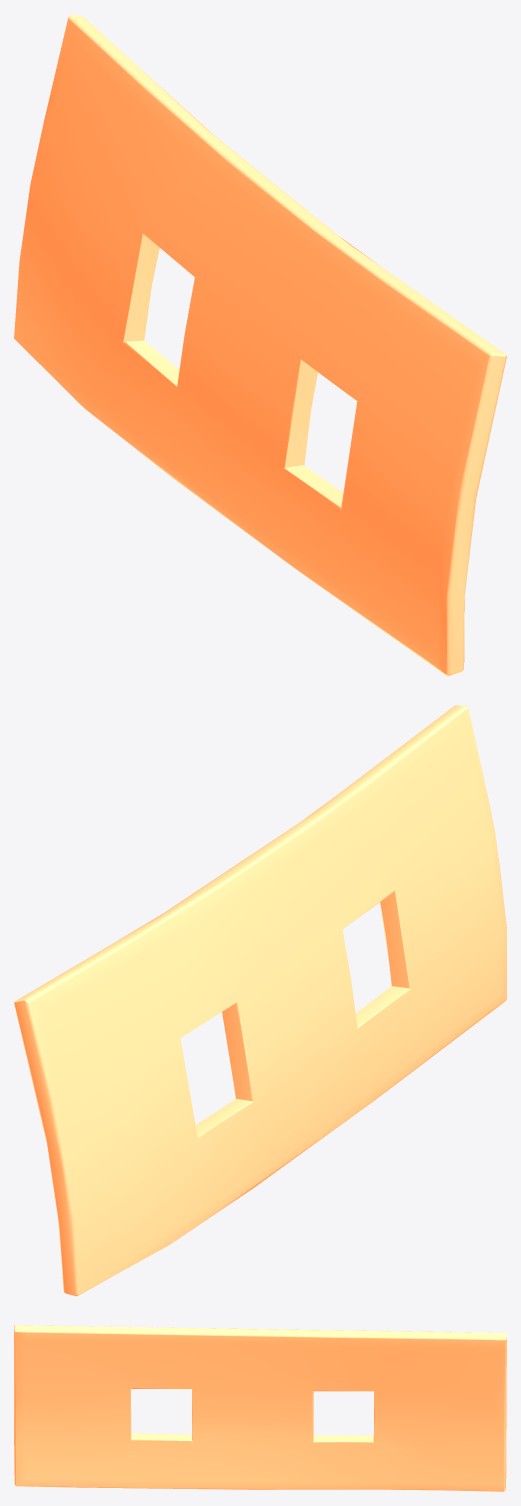
Rendered from SM_Wall_CannonBow02.fbx.
3 renders of one model, top to bottom at view 1: azimuth 30°, elevation 25°; view 2: azimuth 150°, elevation 25°; view 3: azimuth 270°, elevation 25°, orthographic. The views are drawn at different scales.
Parts seen in each view (by area): view 1: SM_Wall_CannonBow02_LOD0; view 2: SM_Wall_CannonBow02_LOD0; view 3: SM_Wall_CannonBow02_LOD0.
Part boxes in pixels (x1,y1,x2,y2): SM_Wall_CannonBow02_LOD0: [14, 14, 506, 676]; SM_Wall_CannonBow02_LOD0: [14, 705, 506, 1296]; SM_Wall_CannonBow02_LOD0: [14, 1325, 506, 1491].
Size of the model in its own units: 91.69 by 791 by 307.
